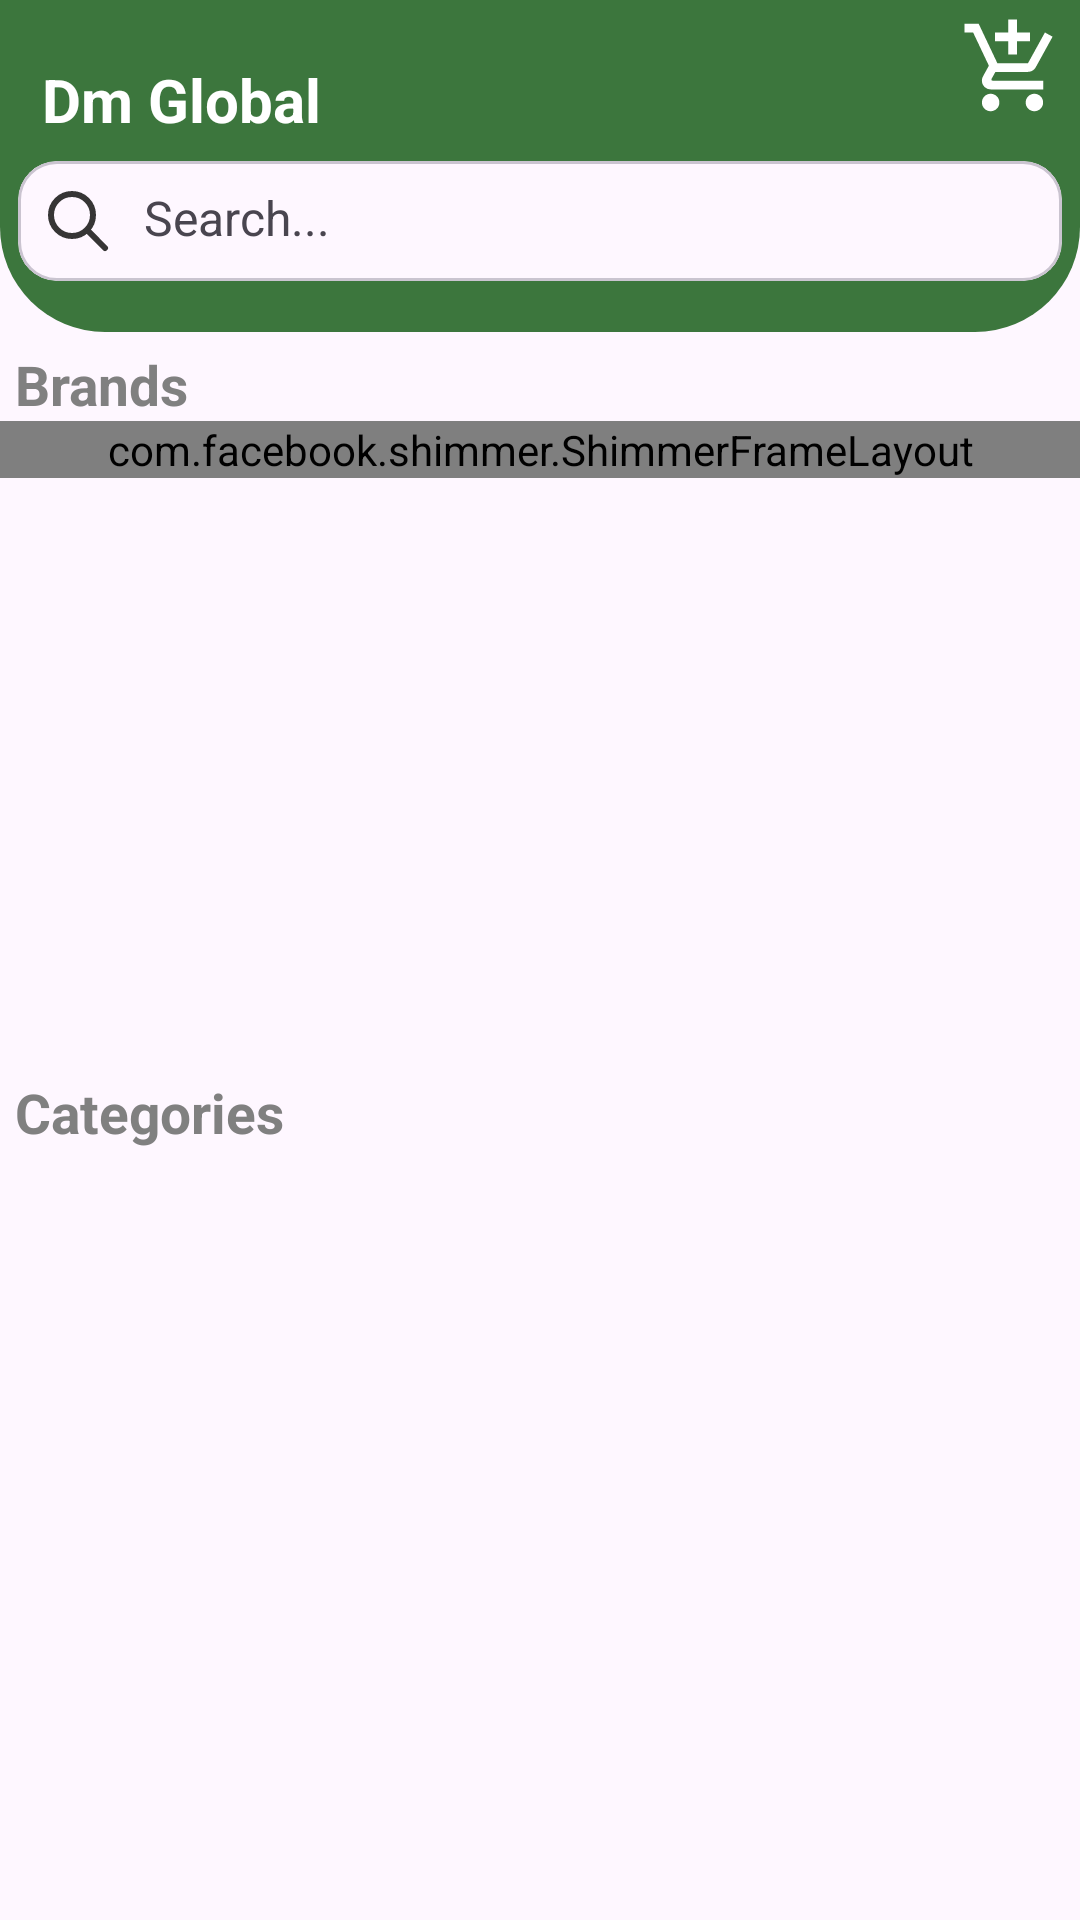

Named icons in this screenshot (1080w x 1920h) and their centers, (x=x, y=y):
add shopping cart: (x=1008, y=65)
